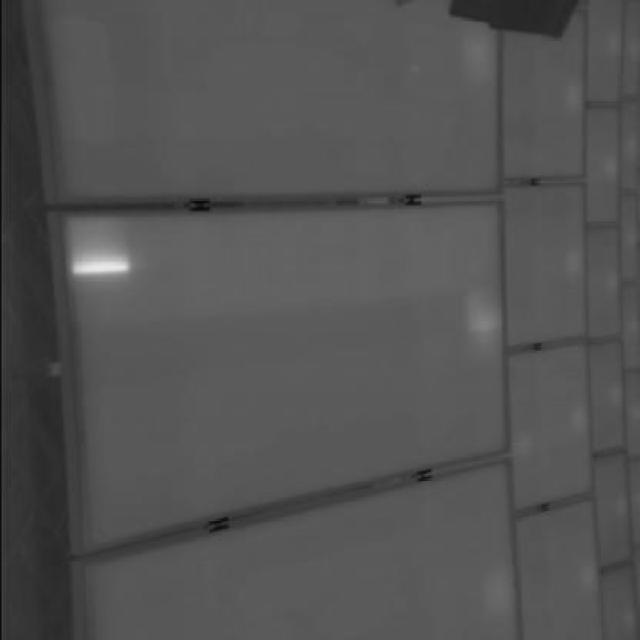hotspot: (54, 214, 134, 281)
